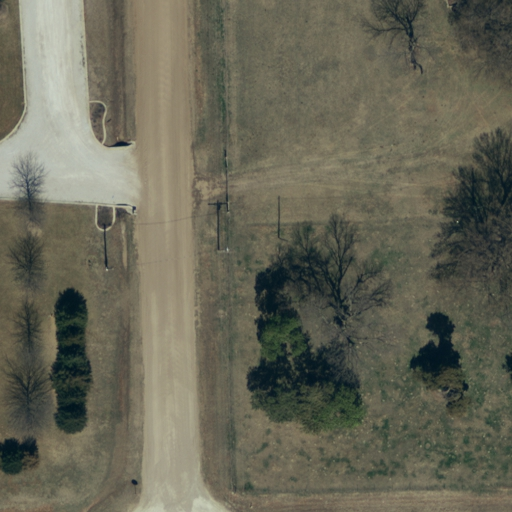DT: (212, 243, 238, 261), (98, 262, 119, 277)
